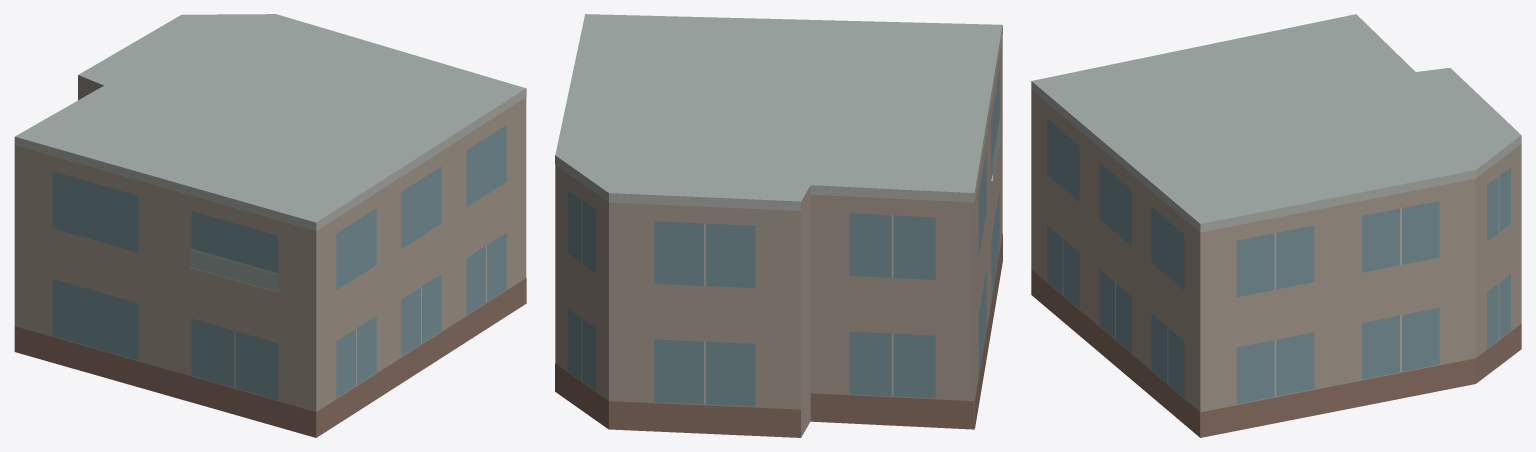
File: survey-upis-32669894.glb
3 renders of one model, left to right at view 1: azimuth 30°, elevation 25°; view 2: azimuth 150°, elevation 25°; view 3: azimuth 270°, elevation 25°, orthographic. The views are drawn at different scales.
Visible parts, largest first — view 1: survey-upis-32669894.tmp; view 2: survey-upis-32669894.tmp; view 3: survey-upis-32669894.tmp.
Part boxes in pixels (x1,y1,x2,y2): survey-upis-32669894.tmp: (14,14,526,437); survey-upis-32669894.tmp: (555,14,1002,437); survey-upis-32669894.tmp: (1031,14,1521,437).
Bounding box in the file's own units: 12.86 × 6.1 × 12.69.
